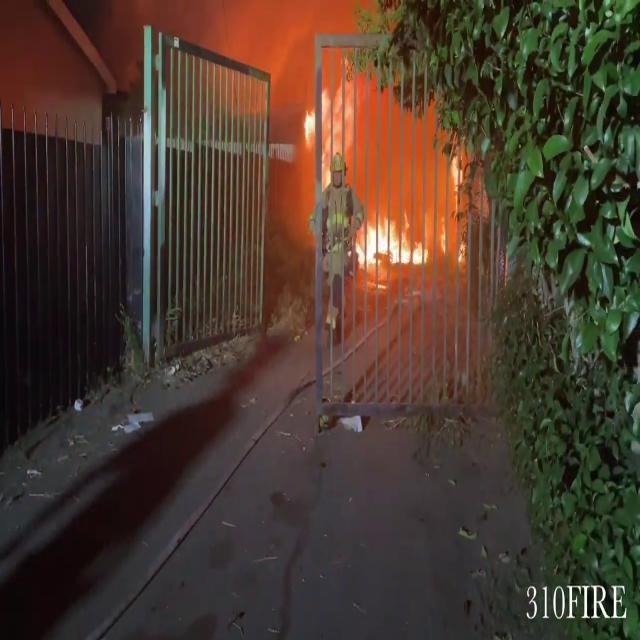Fire: (356, 100, 466, 281)
